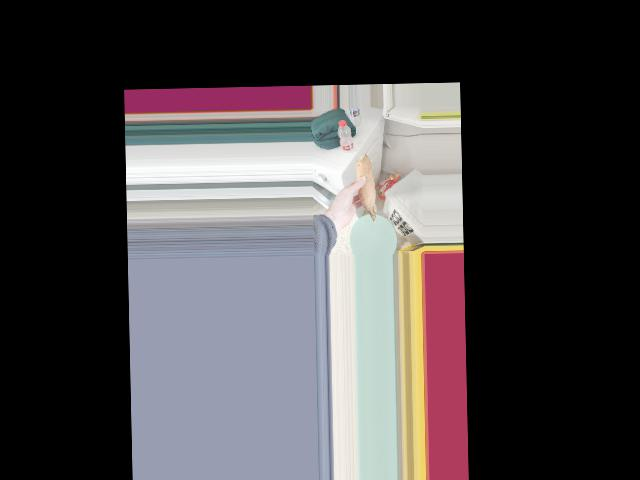sweet_potato: (358, 151, 378, 226)
